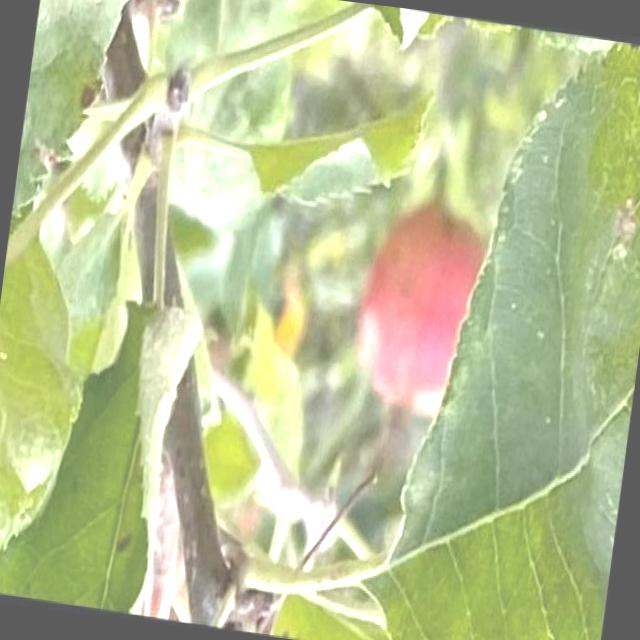Apple: (348, 202, 490, 418)
